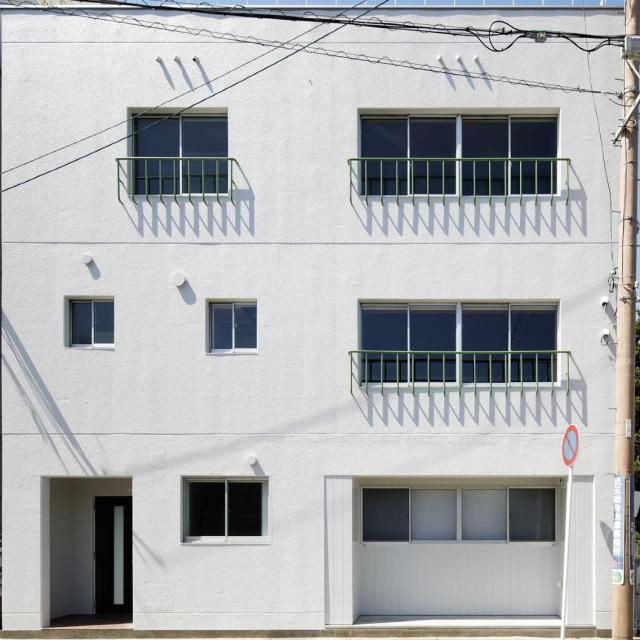Railing: (344, 156, 572, 203), (348, 348, 570, 395), (115, 157, 238, 200)
door: (93, 495, 132, 614)
wall: (0, 4, 621, 631)
windows: (359, 116, 555, 192), (361, 306, 558, 380), (361, 487, 559, 542), (134, 115, 231, 194), (183, 482, 265, 541), (208, 301, 255, 355), (67, 298, 113, 346)
